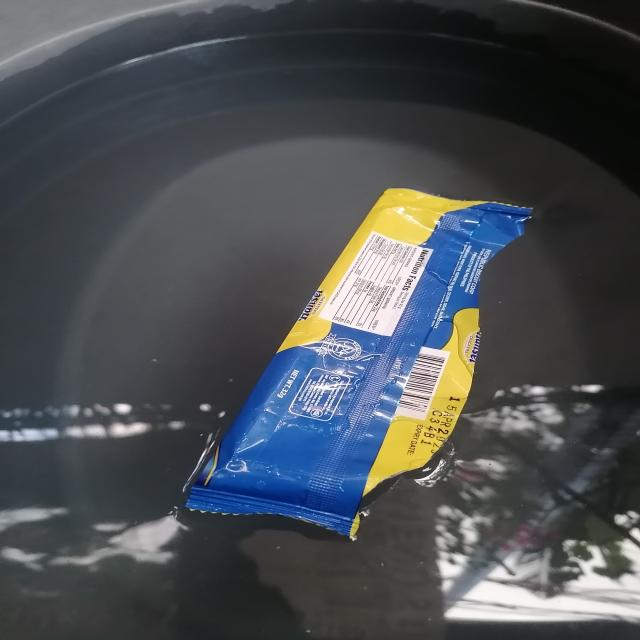Plastic Wrapper: (186, 189, 532, 540)
